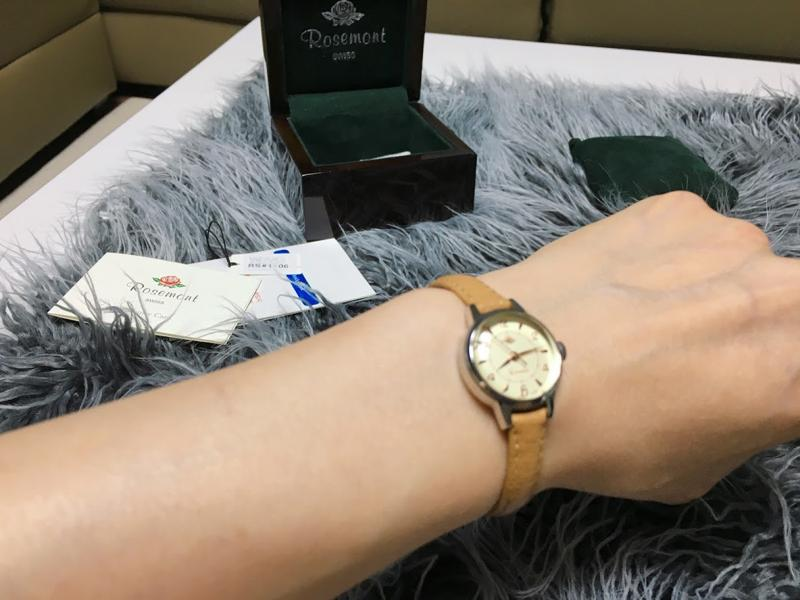watch: (429, 274, 568, 517)
